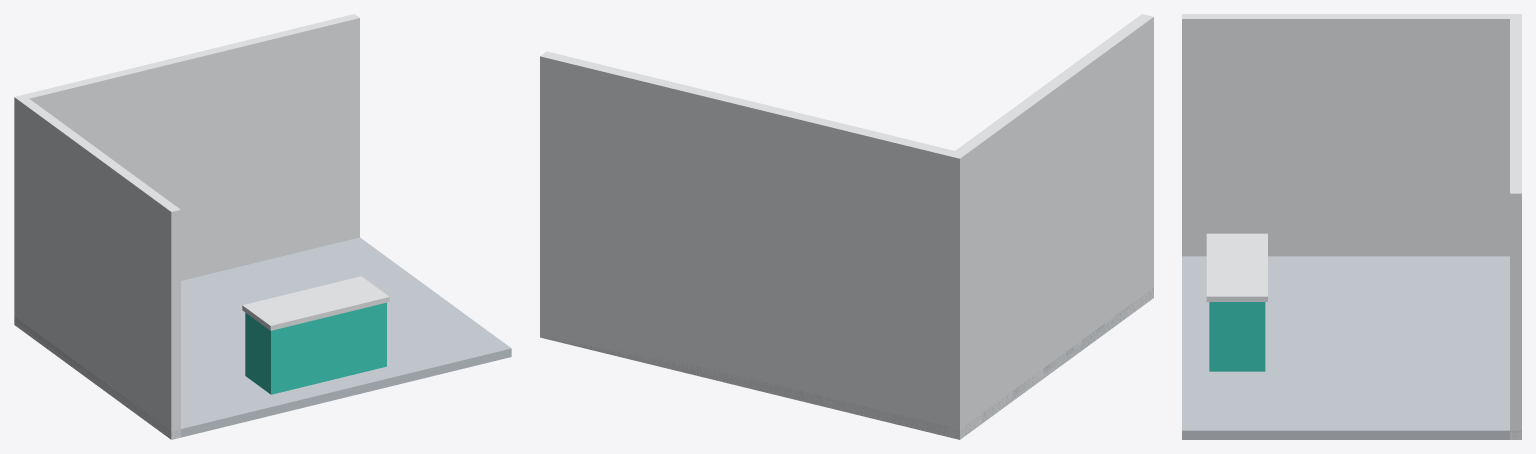
The picture shows the model from 3 angles, left to right: view 1: azimuth 30°, elevation 25°; view 2: azimuth 150°, elevation 25°; view 3: azimuth 270°, elevation 25°; orthographic projection. The views are drawn at different scales.
Visible parts, largest first — view 1: Exhibition Booth Concept; view 2: Exhibition Booth Concept; view 3: Exhibition Booth Concept.
Part boxes in pixels (x1,y1,x2,y2): Exhibition Booth Concept: [14, 14, 511, 439]; Exhibition Booth Concept: [540, 14, 1153, 439]; Exhibition Booth Concept: [1182, 14, 1521, 439].
Bounding box in the file's own units: 5 × 3.2 × 4.
